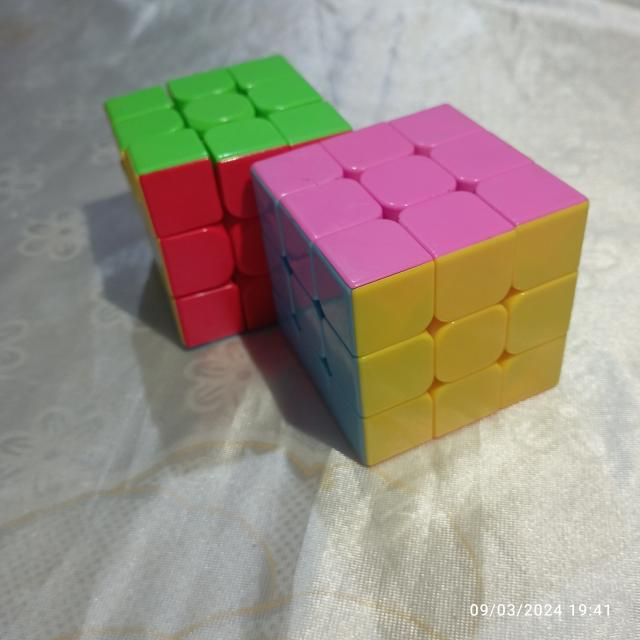Rub: (244, 97, 594, 470), (98, 48, 352, 354)
